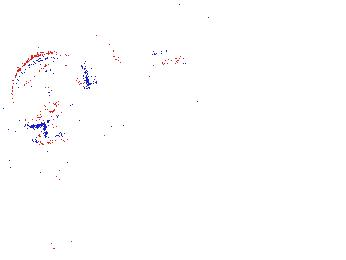moon jellyfish: (43, 87, 117, 193), (108, 1, 217, 72), (42, 10, 129, 81), (11, 52, 88, 128)
